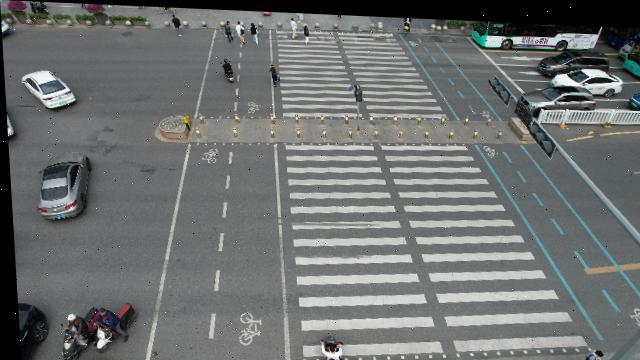non-motor-vehicle: (91, 302, 131, 350), (60, 302, 91, 360), (314, 331, 344, 360), (218, 57, 236, 81), (402, 14, 413, 32)
person: (170, 11, 186, 37), (233, 17, 247, 44), (266, 61, 280, 84), (248, 18, 260, 44), (580, 342, 597, 360), (289, 15, 299, 38), (301, 21, 311, 42), (225, 19, 234, 41)
